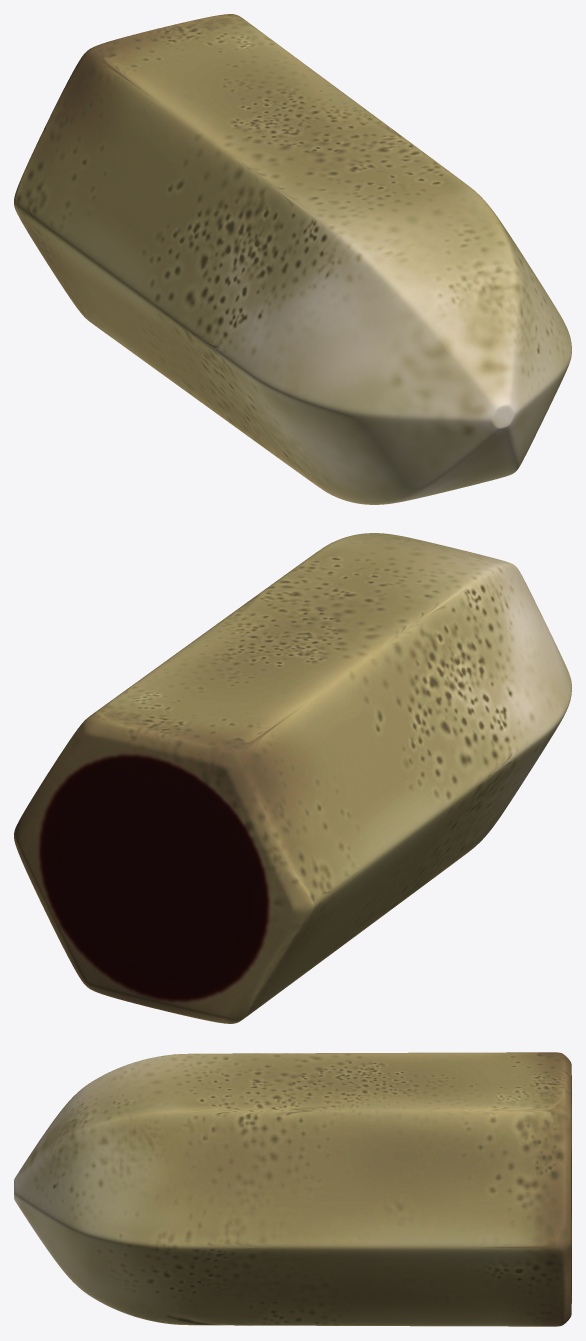
File: torre_scaled.glb
3 renders of one model, top to bottom at view 1: azimuth 30°, elevation 25°; view 2: azimuth 150°, elevation 25°; view 3: azimuth 270°, elevation 25°, orthographic. The views are drawn at different scales.
Parts seen in each view (by area): view 1: Node1; view 2: Node1; view 3: Node1.
Boxes of the visible parts, x1,y1,x2,y2 form: Node1: (14,14,571,504); Node1: (14,533,571,1023); Node1: (14,1052,571,1326).
Bounding box in the file's own units: 0.4291 × 0.3804 × 0.8701.
1 material, 1 textured.
